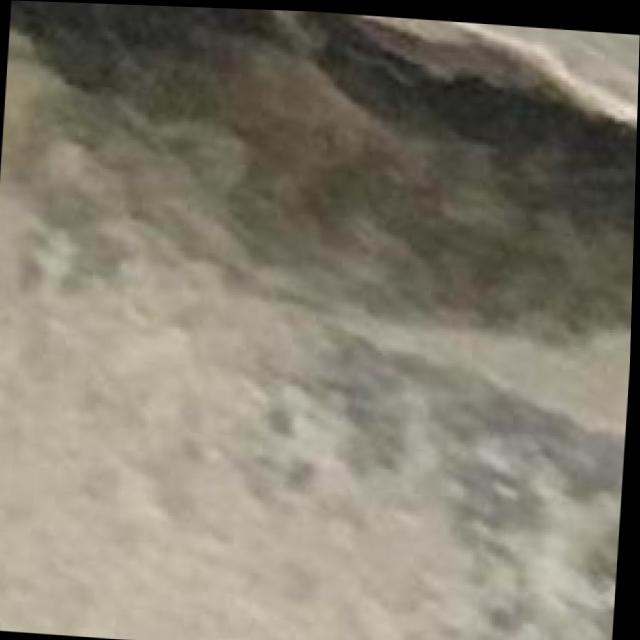Crack: (14, 1, 640, 326)
